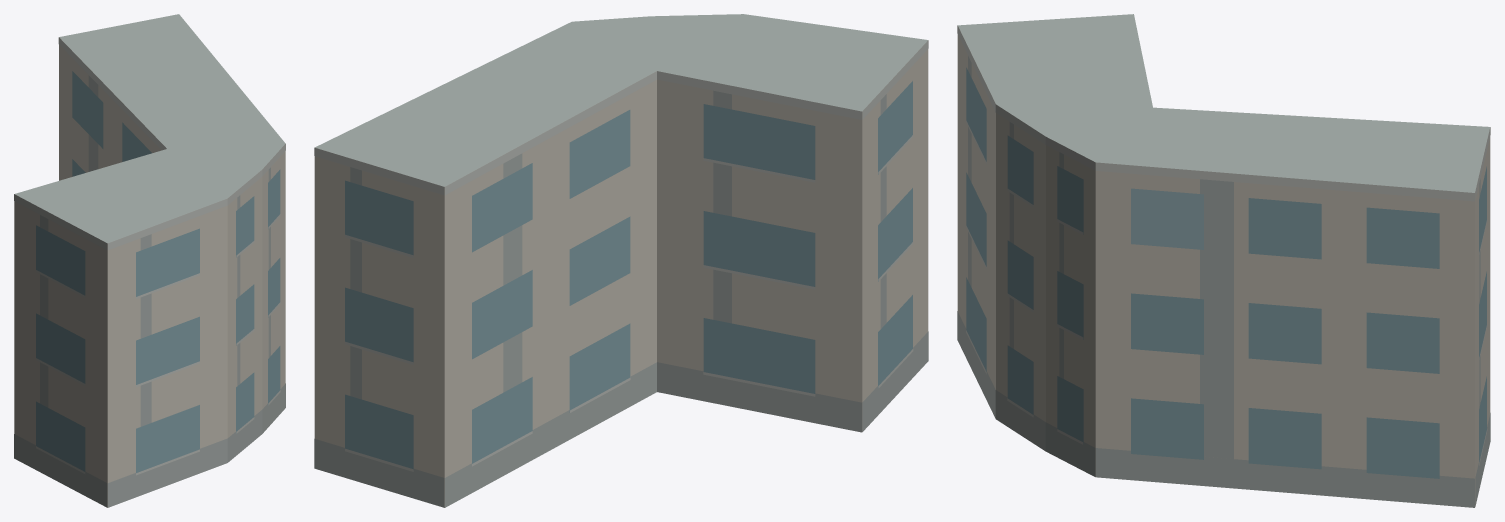
File: survey-upis-33031119.glb
3 views of the same model, side by side, from view 1: azimuth 30°, elevation 25°; view 2: azimuth 150°, elevation 25°; view 3: azimuth 270°, elevation 25° (orthographic). The views are drawn at different scales.
Parts seen in each view (by area): view 1: survey-upis-33031119.tmp; view 2: survey-upis-33031119.tmp; view 3: survey-upis-33031119.tmp.
Boxes of the visible parts, x1,y1,x2,y2 form: survey-upis-33031119.tmp: (14,14,285,507); survey-upis-33031119.tmp: (314,14,928,507); survey-upis-33031119.tmp: (957,14,1490,507).
Bounding box in the file's own units: 11.17 × 9.15 × 14.04.
